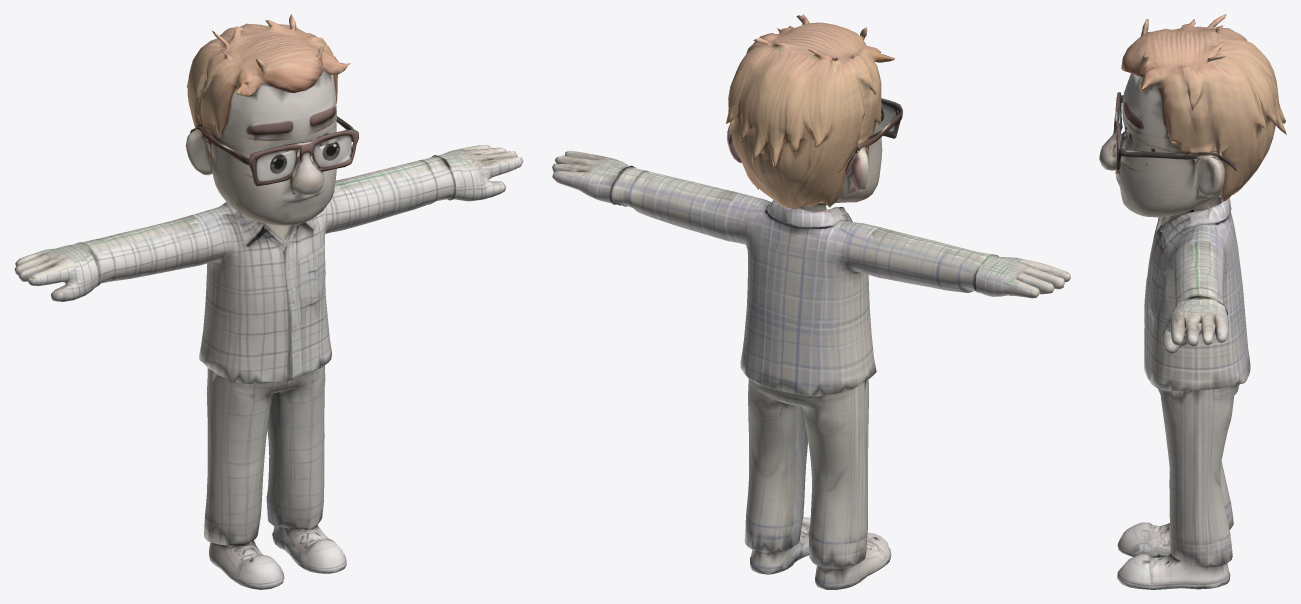
File: T_Pose_Sketch_Charact_0424185639_texture.glb
3 renders of one model, left to right at view 1: azimuth 30°, elevation 25°; view 2: azimuth 150°, elevation 25°; view 3: azimuth 270°, elevation 25°, orthographic. The views are drawn at different scales.
Size of the model in its own units: 2 by 2 by 0.6412.
Materials: 1 (1 with a texture image).
